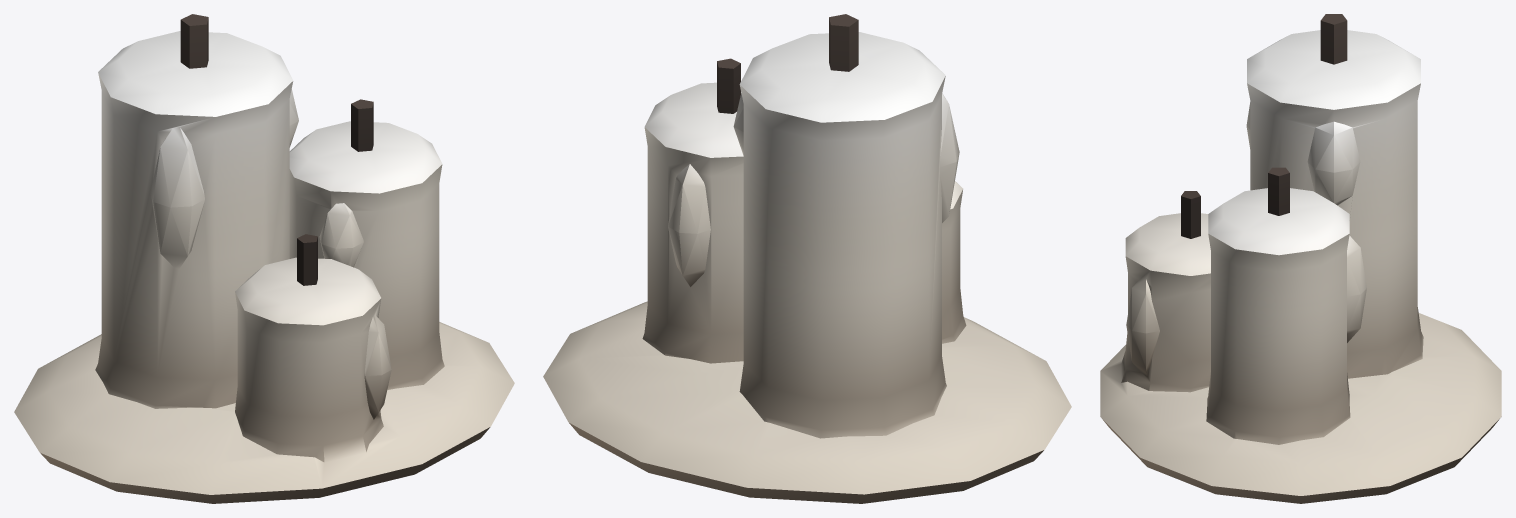
File: candle_cluster.glb
3 views of the same model, side by side, from view 1: azimuth 30°, elevation 25°; view 2: azimuth 150°, elevation 25°; view 3: azimuth 270°, elevation 25° (orthographic). The views are drawn at different scales.
Parts seen in each view (by area): view 1: Item; view 2: Item; view 3: Item.
Boxes of the visible parts, x1,y1,x2,y2 form: Item: (14,14,514,503); Item: (543,14,1071,503); Item: (1100,14,1501,503).
Bounding box in the file's own units: 0.88 × 0.73 × 0.7292.
1 material, 1 textured.
